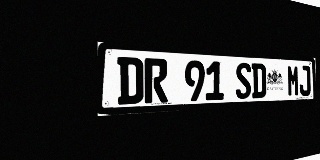1: (205, 61, 224, 100)
9: (185, 60, 205, 101)
D: (117, 57, 143, 105), (251, 63, 266, 98)
J: (299, 65, 311, 96)
M: (287, 65, 299, 97)
R: (144, 58, 168, 103)
S: (235, 62, 251, 99)
